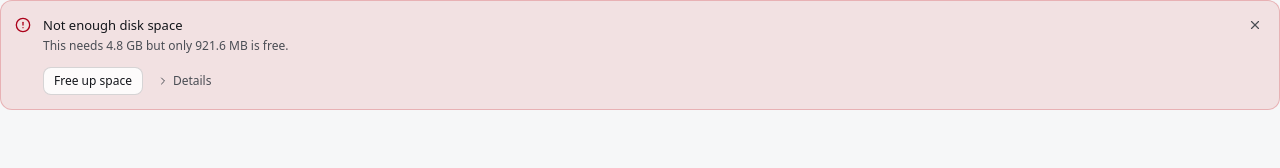
Test: ErrorCallout › says what happened and offers the fix
Later steps or results of the test are not shown.
Expected: the message shows "Not enough disk space", left=43, top=16, right=182, bottom=34
Click the button "Free up space". click: (93, 81)
box: left=43, top=67, right=143, bottom=95
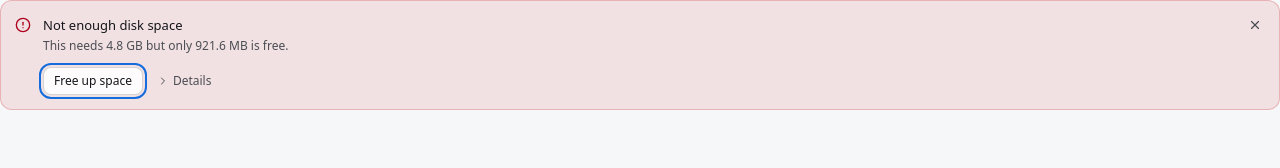
Click the button "Details". click: (184, 81)
box: left=151, top=67, right=217, bottom=95
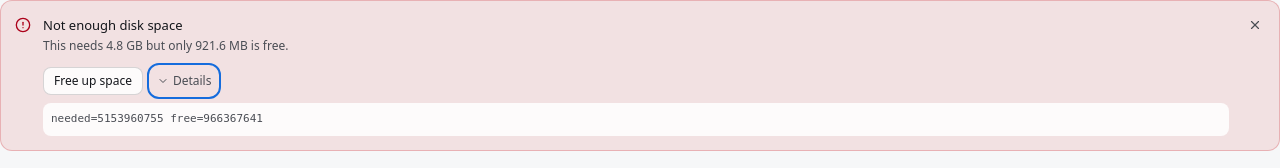
Expected: the text "needed=5153960755 free=966367641" is shown, left=43, top=103, right=1229, bottom=136
